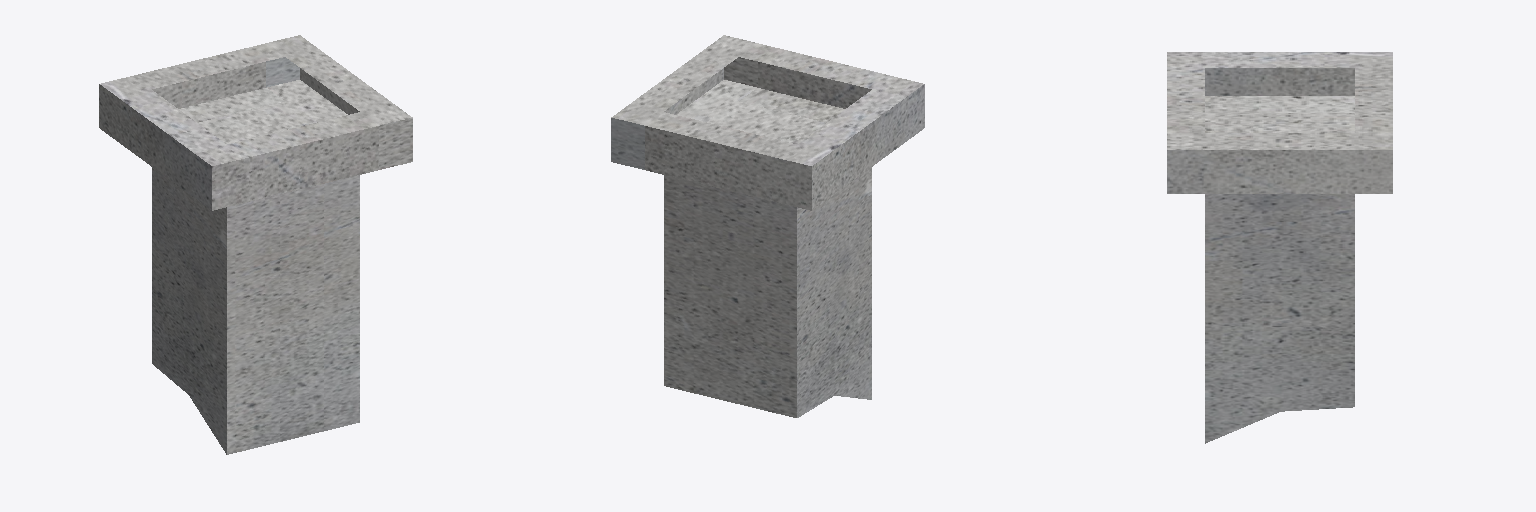
3 views of the same model, side by side, from view 1: azimuth 30°, elevation 25°; view 2: azimuth 150°, elevation 25°; view 3: azimuth 270°, elevation 25° (orthographic).
Visible parts, largest first — view 1: Chimenea; view 2: Chimenea; view 3: Chimenea.
Boxes of the visible parts, <box> form: Chimenea: <box>99,35,412,454</box>; Chimenea: <box>611,35,924,417</box>; Chimenea: <box>1167,52,1392,443</box>.
Size of the model in its own units: 5.95 by 8.82 by 5.8.
Materials: 1 (1 with a texture image).